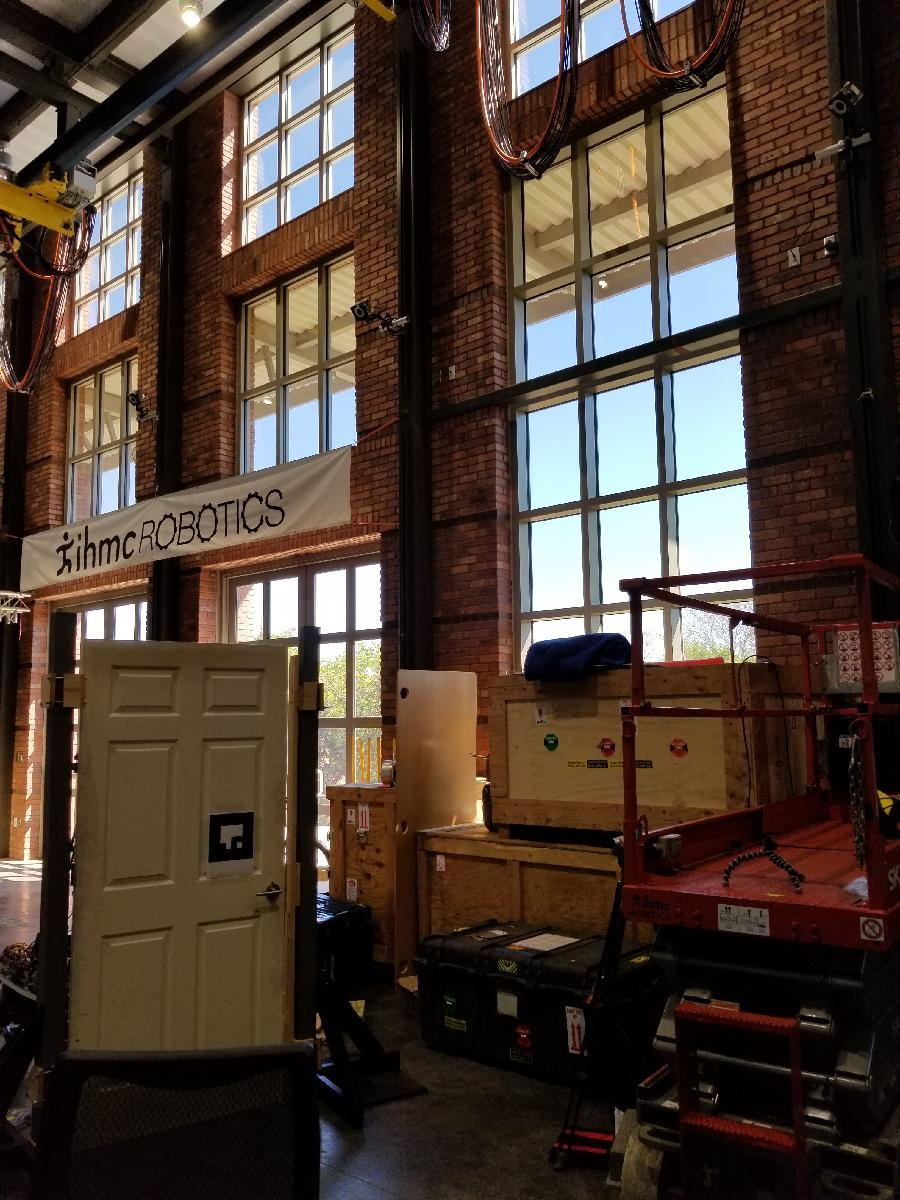door: (62, 635, 299, 1103)
doorHandle: (254, 883, 295, 910)
